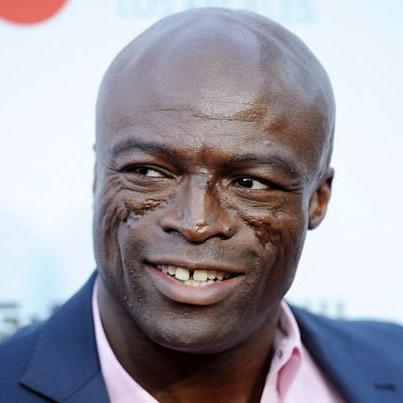Sober: (102, 48, 294, 339)
